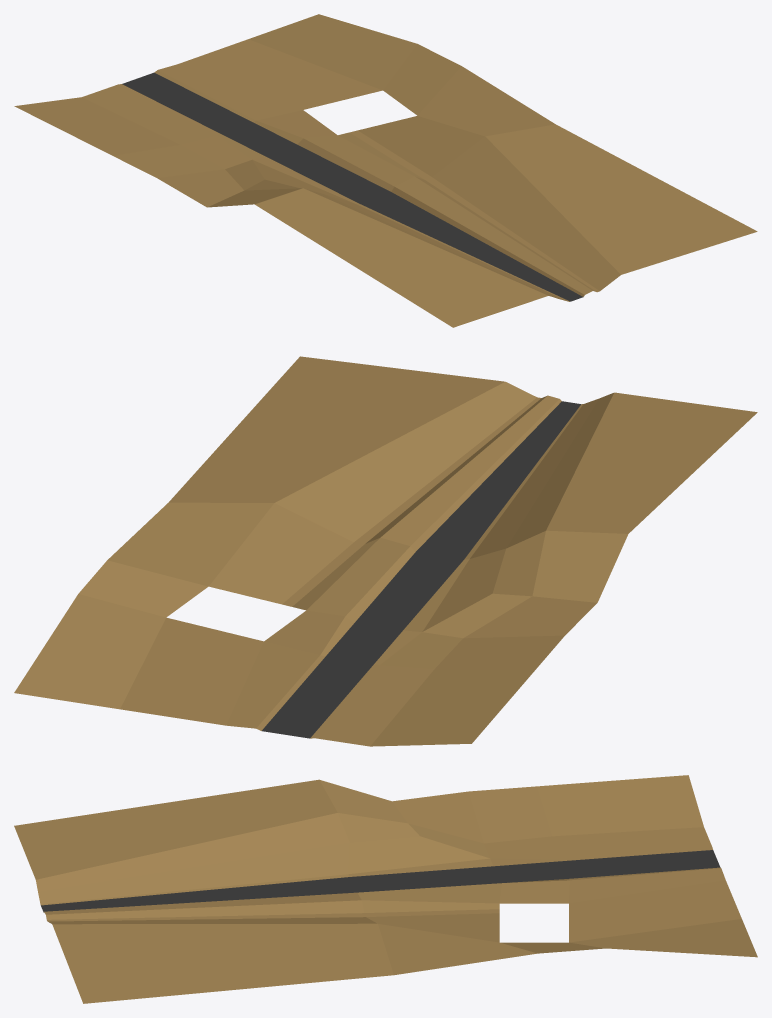
The model's file is surroundingGround01.fbx.
The picture shows the model from 3 angles, top to bottom: view 1: azimuth 30°, elevation 25°; view 2: azimuth 150°, elevation 25°; view 3: azimuth 270°, elevation 25°; orthographic projection. The views are drawn at different scales.
Parts seen in each view (by area): view 1: surroundingGround01; view 2: surroundingGround01; view 3: surroundingGround01.
Part boxes in pixels (x1=…): surroundingGround01: x1=14, y1=14, x2=757, y2=327; surroundingGround01: x1=14, y1=356, x2=757, y2=746; surroundingGround01: x1=14, y1=775, x2=757, y2=1003.
Bounding box in the file's own units: 85.11 × 7.26 × 124.
